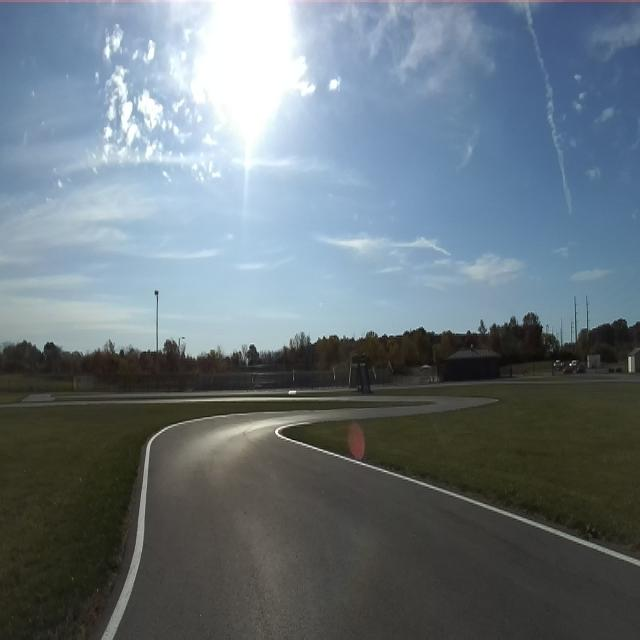white-line: (276, 422, 640, 567), (102, 412, 249, 639)
